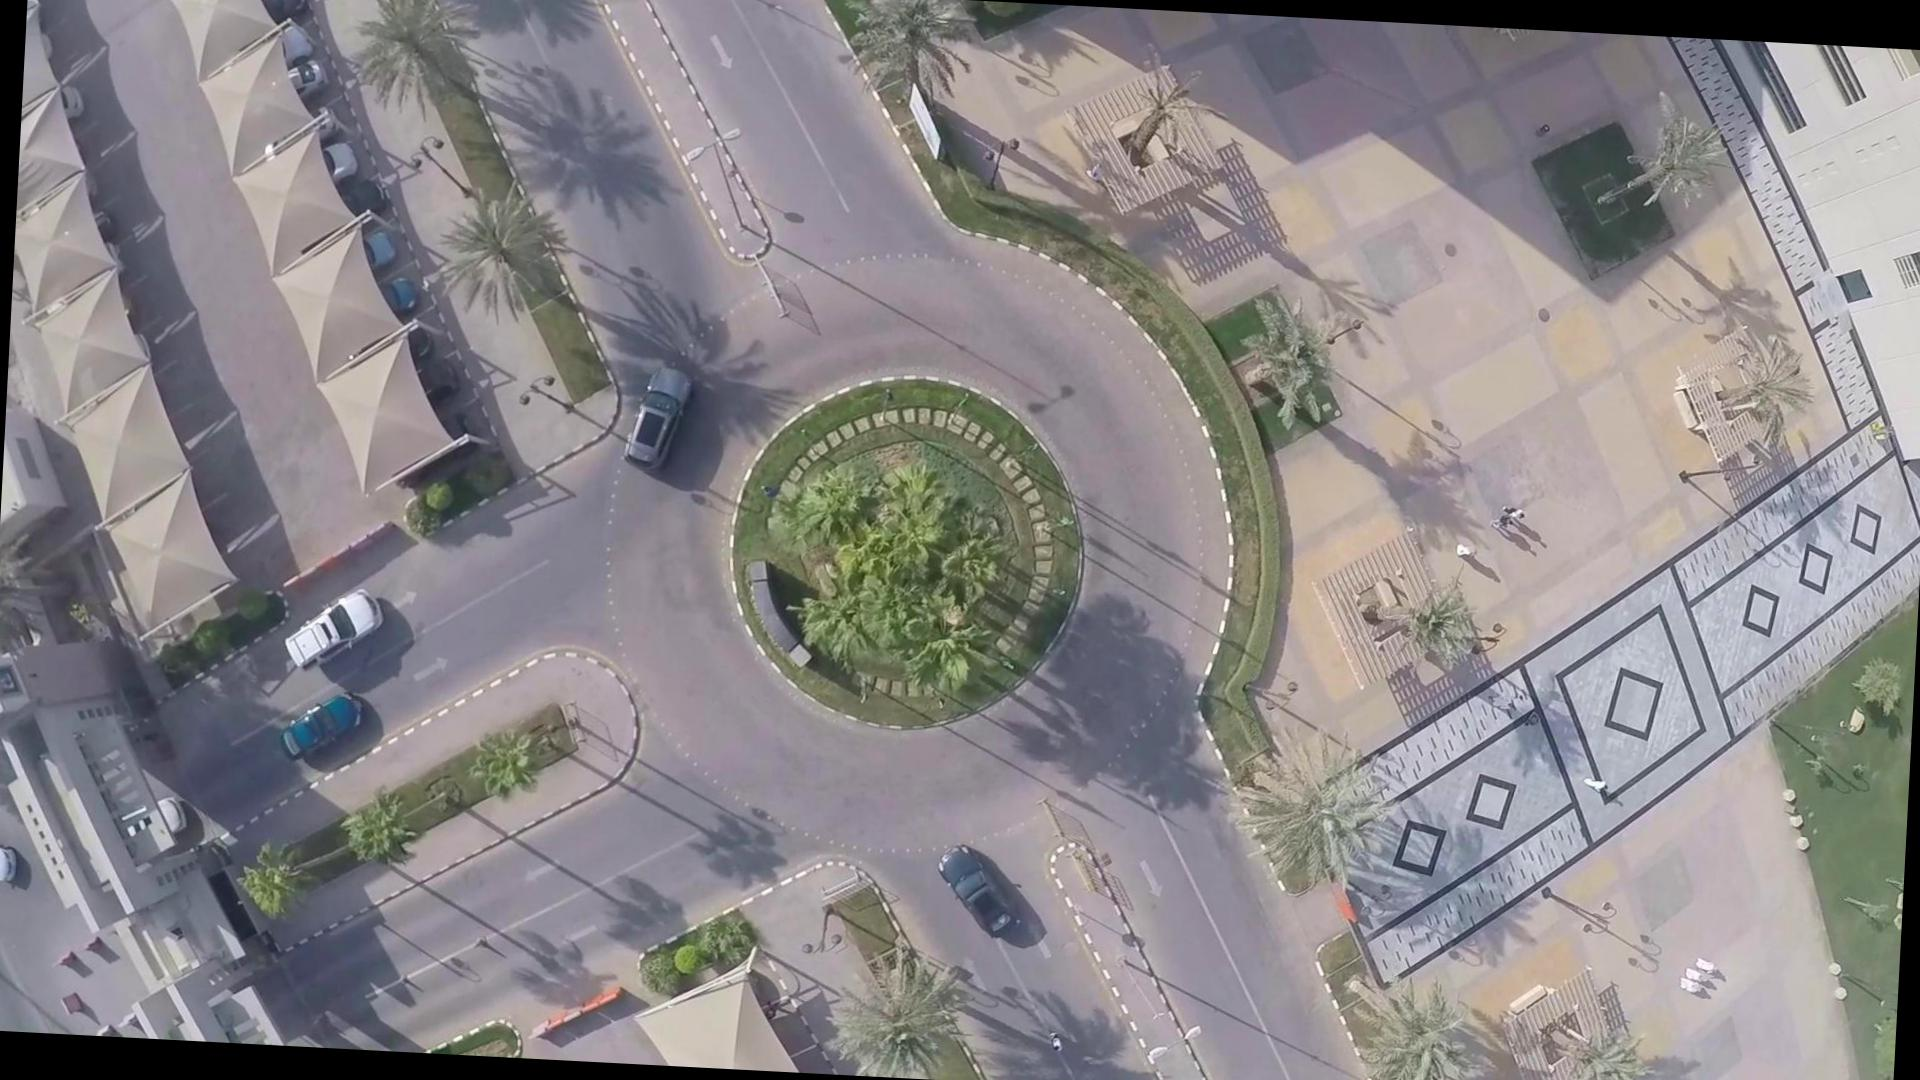vehicle: (615, 355, 699, 484), (278, 582, 389, 676), (939, 835, 1023, 953), (278, 674, 375, 761)
